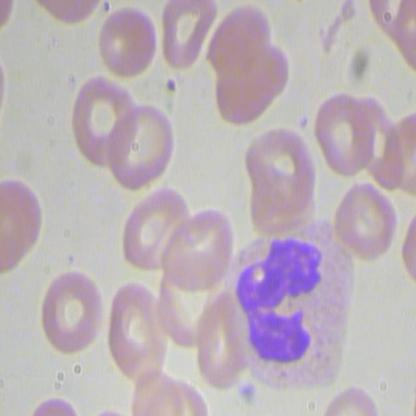RBC: (205, 1, 293, 133), (72, 71, 144, 171), (103, 277, 166, 389), (155, 204, 234, 293), (114, 184, 189, 273), (34, 265, 105, 357), (105, 99, 176, 191), (311, 91, 379, 175), (244, 123, 312, 207), (331, 179, 398, 263), (200, 291, 246, 394), (98, 1, 159, 77), (158, 1, 219, 77), (1, 176, 44, 279)
WBC: (220, 215, 365, 390)
